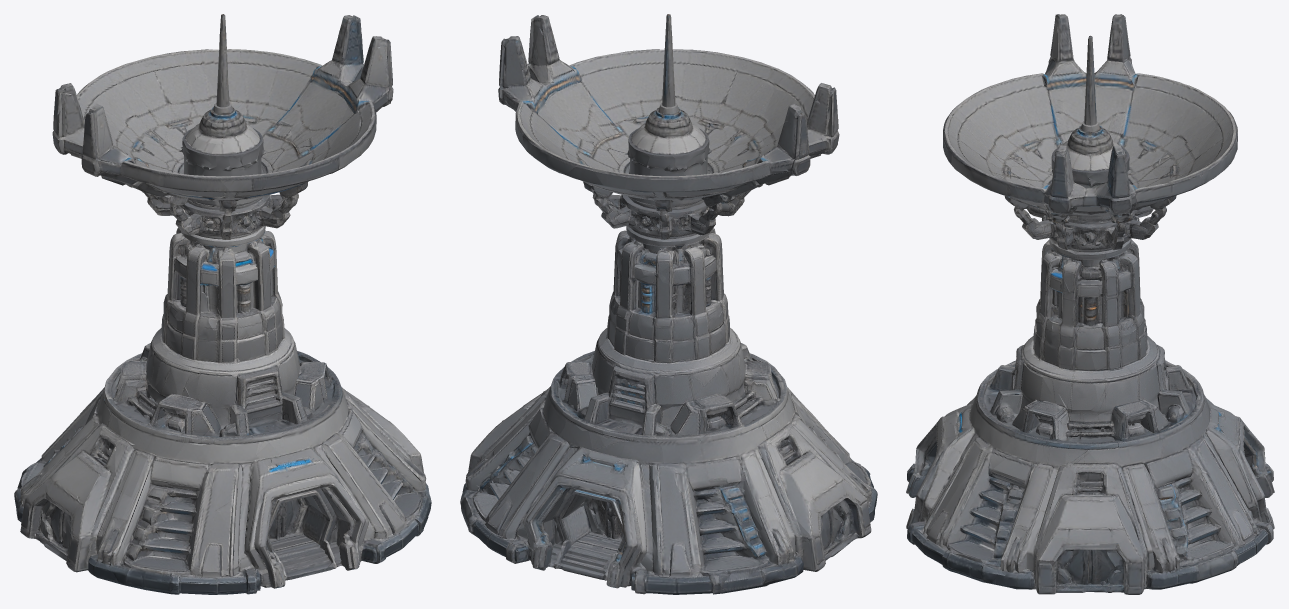
File: weather-device.glb
3 renders of one model, left to right at view 1: azimuth 30°, elevation 25°; view 2: azimuth 150°, elevation 25°; view 3: azimuth 270°, elevation 25°, orthographic. The views are drawn at different scales.
Visible parts, largest first — view 1: mesh_node; view 2: mesh_node; view 3: mesh_node.
Part boxes in pixels (x1,y1,x2,y2): mesh_node: [14, 14, 431, 594]; mesh_node: [460, 14, 877, 594]; mesh_node: [906, 14, 1274, 594].
Bounding box in the file's own units: 1.41 × 1.9 × 1.33.
1 material, 1 textured.
